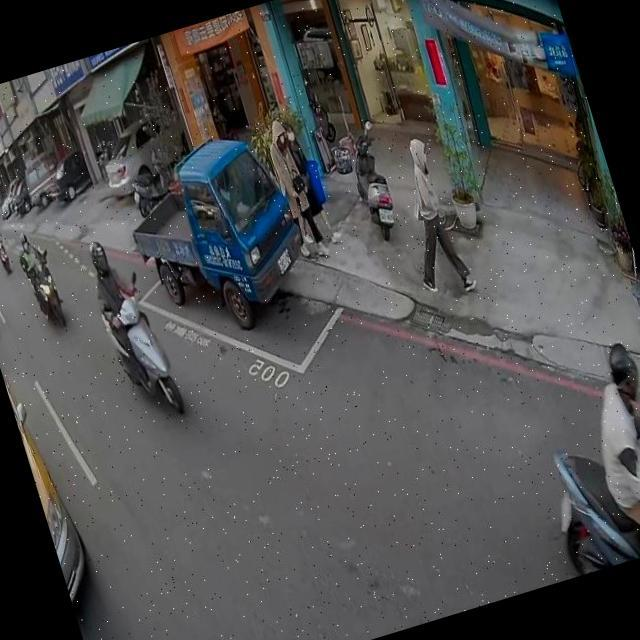person: (379, 128, 482, 305), (567, 333, 640, 560), (80, 231, 170, 399), (259, 112, 330, 260), (272, 113, 340, 255), (13, 226, 68, 322), (0, 218, 4, 246)
